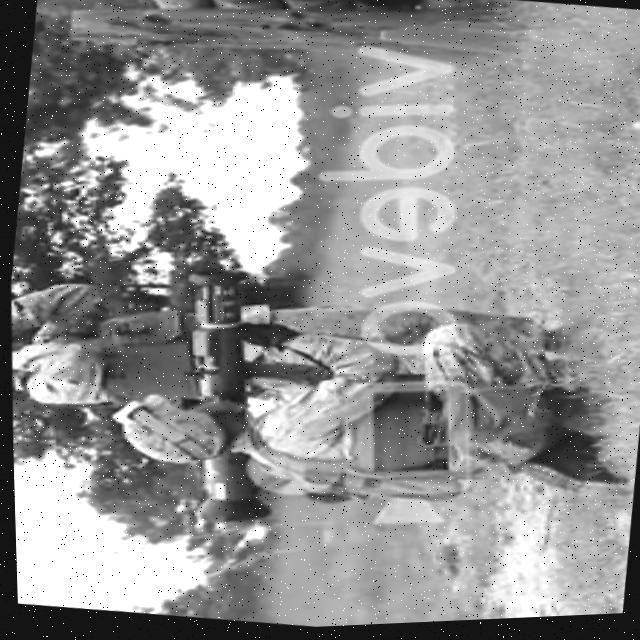rocket: (160, 265, 290, 531)
